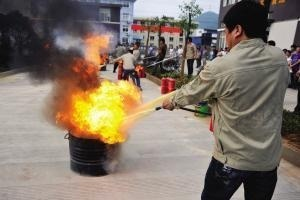fire: (55, 31, 142, 145)
